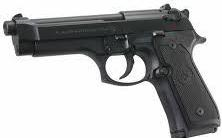gun: (1, 1, 222, 138)
